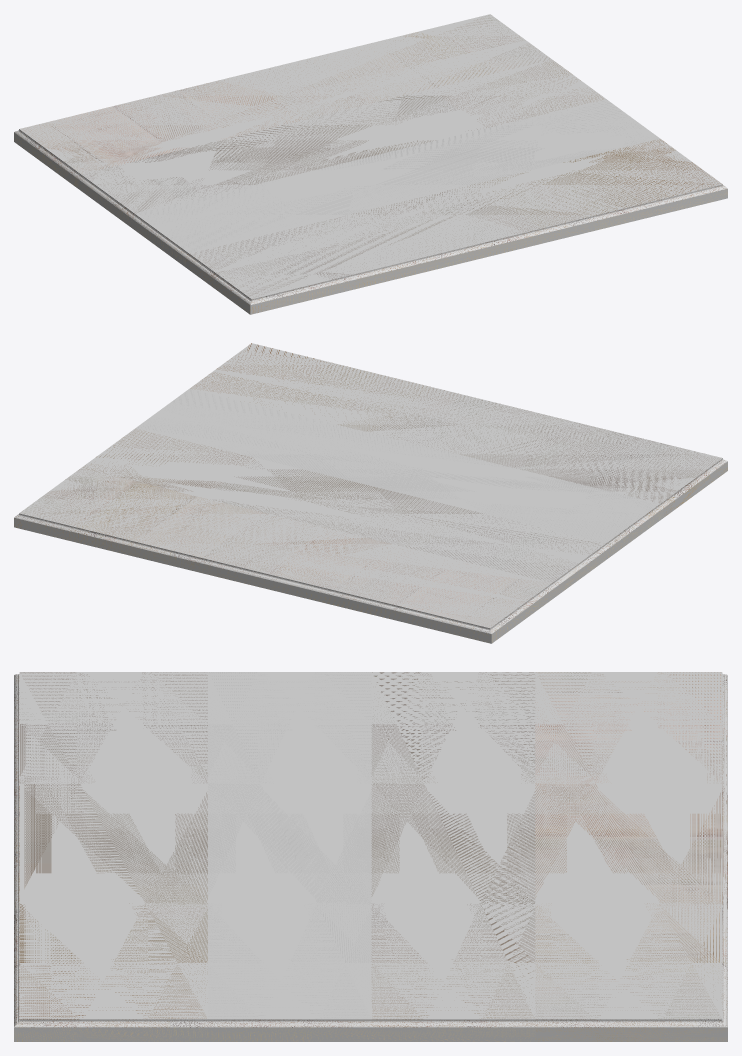
File: original-19.obj
The picture shows the model from 3 angles, top to bottom: view 1: azimuth 30°, elevation 25°; view 2: azimuth 150°, elevation 25°; view 3: azimuth 270°, elevation 25°; orthographic projection. The views are drawn at different scales.
Visible parts, largest first — view 1: Difference/mesh19/mesh19-geometry#mesh19-geometry; view 2: Difference/mesh19/mesh19-geometry#mesh19-geometry; view 3: Difference/mesh19/mesh19-geometry#mesh19-geometry.
Boxes of the visible parts, left/top/right/bottom form: Difference/mesh19/mesh19-geometry#mesh19-geometry: left=14, top=14, right=727, bottom=314; Difference/mesh19/mesh19-geometry#mesh19-geometry: left=14, top=343, right=727, bottom=643; Difference/mesh19/mesh19-geometry#mesh19-geometry: left=14, top=672, right=727, bottom=1041.
Bounding box in the file's own units: 0.9573 × 0.0256 × 0.8205.
